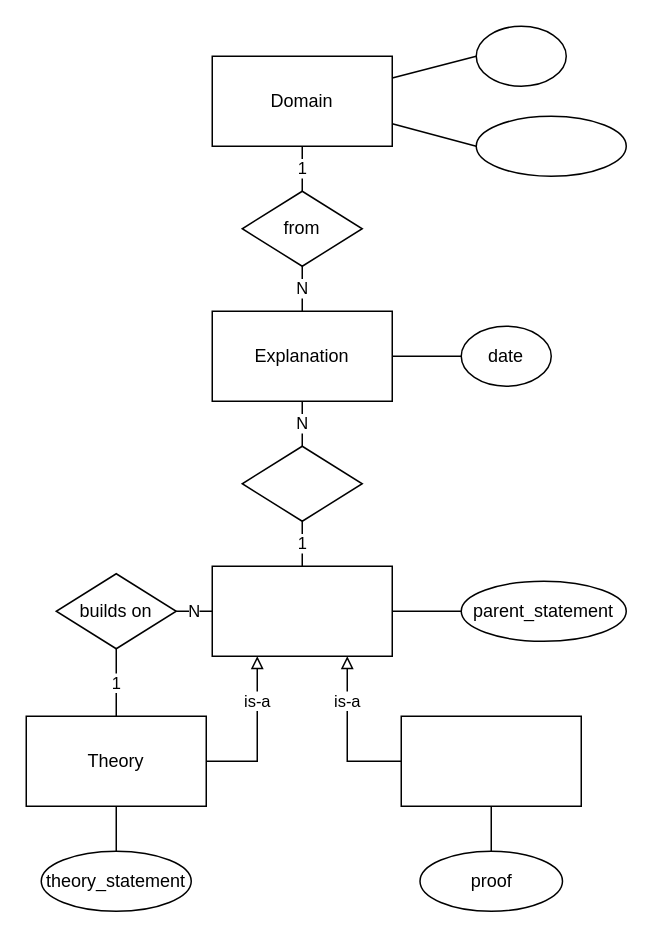
Image size: 653x938. Some labels were removed from this diagram. Here are the shapes that lost their labels. From the top down, the box of each, then its label:
(475, 25, 566, 86): name
(475, 115, 626, 176): area_of_study
(241, 445, 362, 521): by
(211, 565, 392, 656): Belief
(400, 715, 581, 806): Theorem
